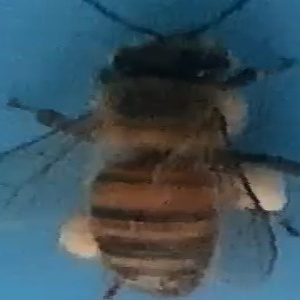bee: (22, 4, 298, 300)
